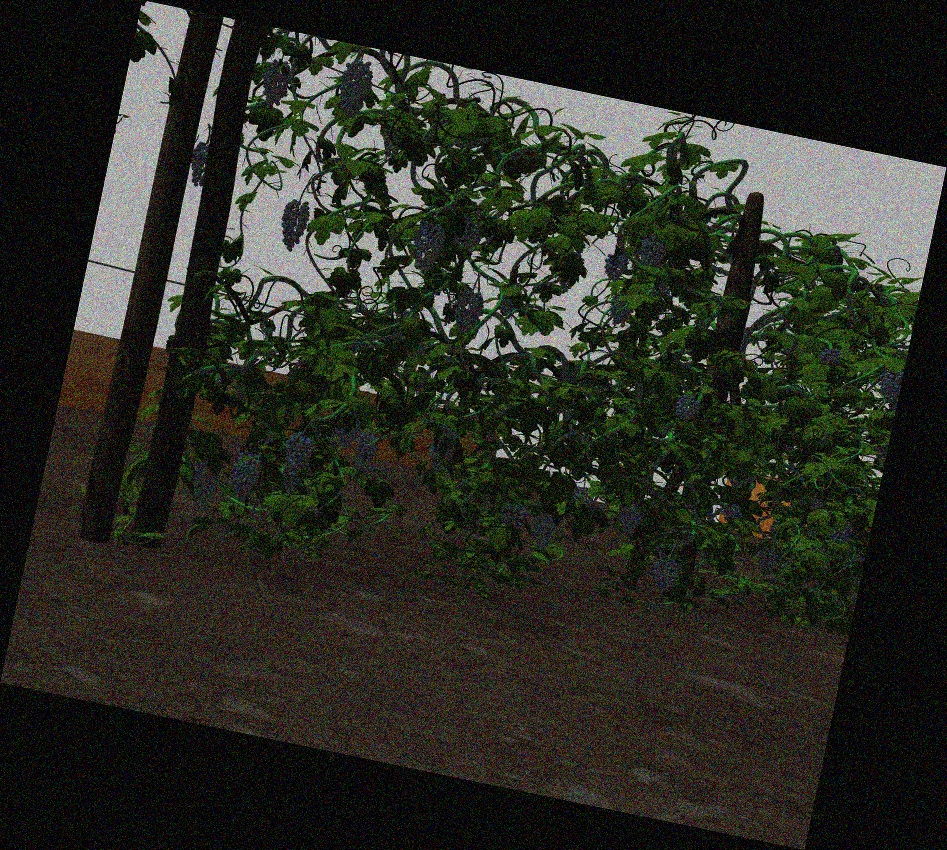grape: (339, 58, 371, 116), (280, 198, 310, 250), (190, 459, 220, 511), (414, 222, 442, 272), (260, 61, 289, 109), (231, 454, 259, 502), (428, 426, 455, 474), (455, 290, 484, 334), (284, 434, 313, 477), (650, 558, 681, 596), (531, 512, 555, 553), (353, 434, 378, 473), (638, 235, 665, 268), (616, 501, 642, 535), (189, 142, 209, 186), (501, 501, 529, 530), (603, 251, 630, 280), (672, 396, 701, 423), (877, 372, 900, 404), (756, 545, 778, 578), (609, 296, 632, 326), (819, 346, 842, 366), (723, 503, 743, 520)
